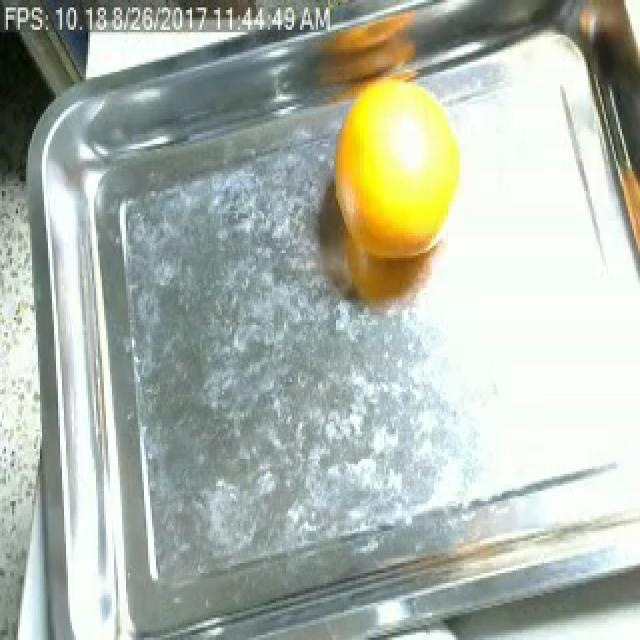Fruit: (316, 67, 486, 322), (300, 3, 444, 99), (594, 132, 640, 332)
